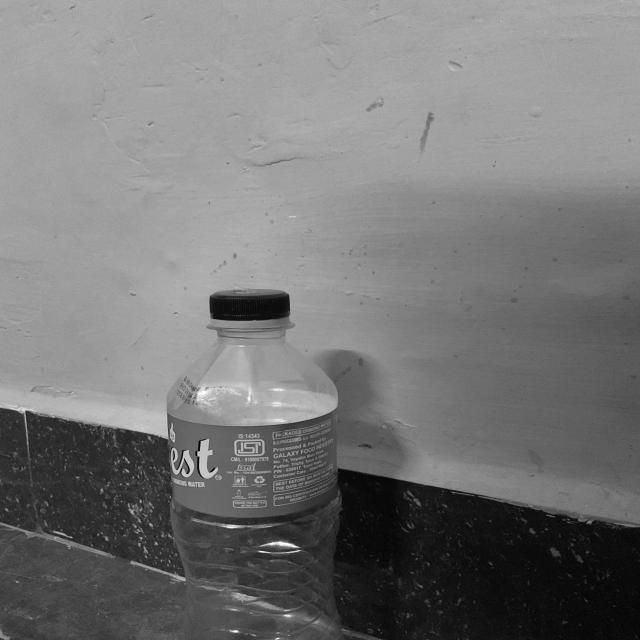Good-cap-Df0S: (204, 286, 295, 332)
